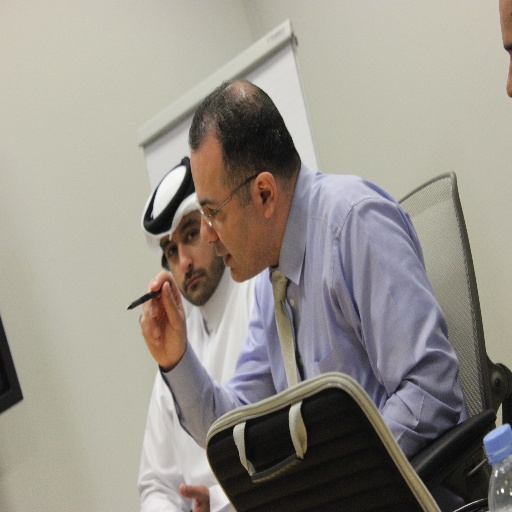hand: (127, 268, 192, 362), (177, 482, 208, 511)
